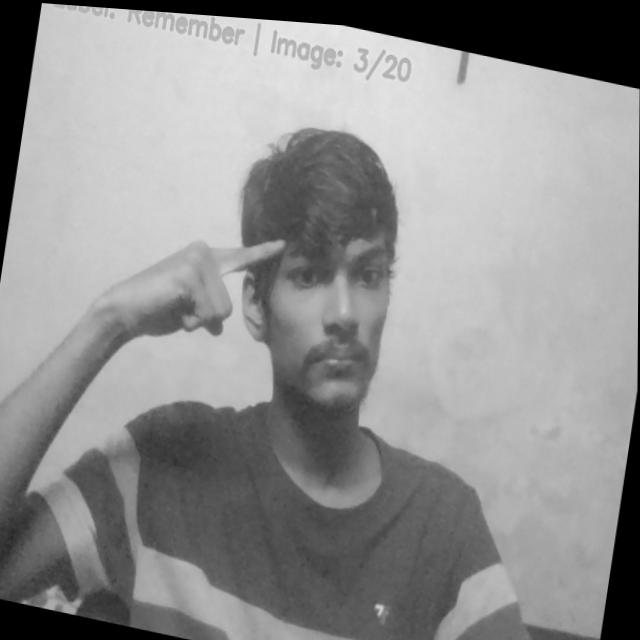Remember: (124, 201, 290, 352)
